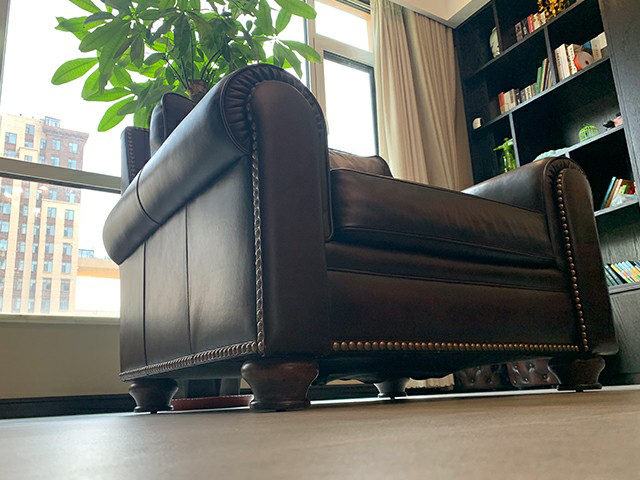cabinet: (455, 1, 640, 385)
sofa: (102, 62, 620, 414)
